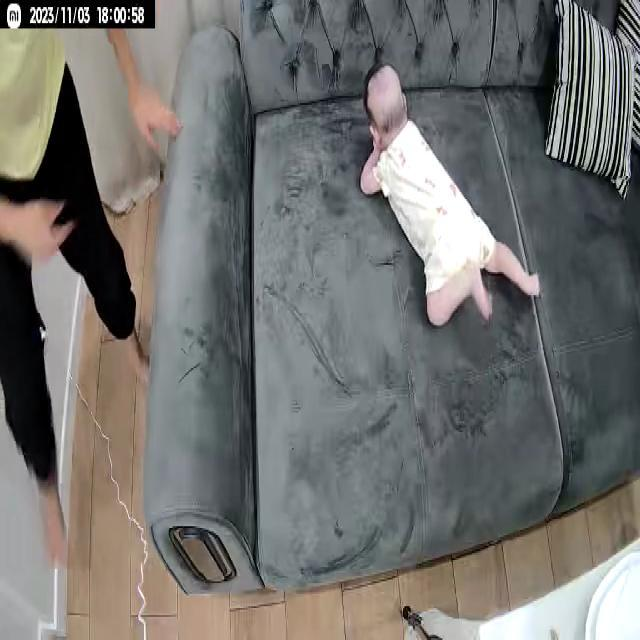baby: (356, 65, 542, 332)
